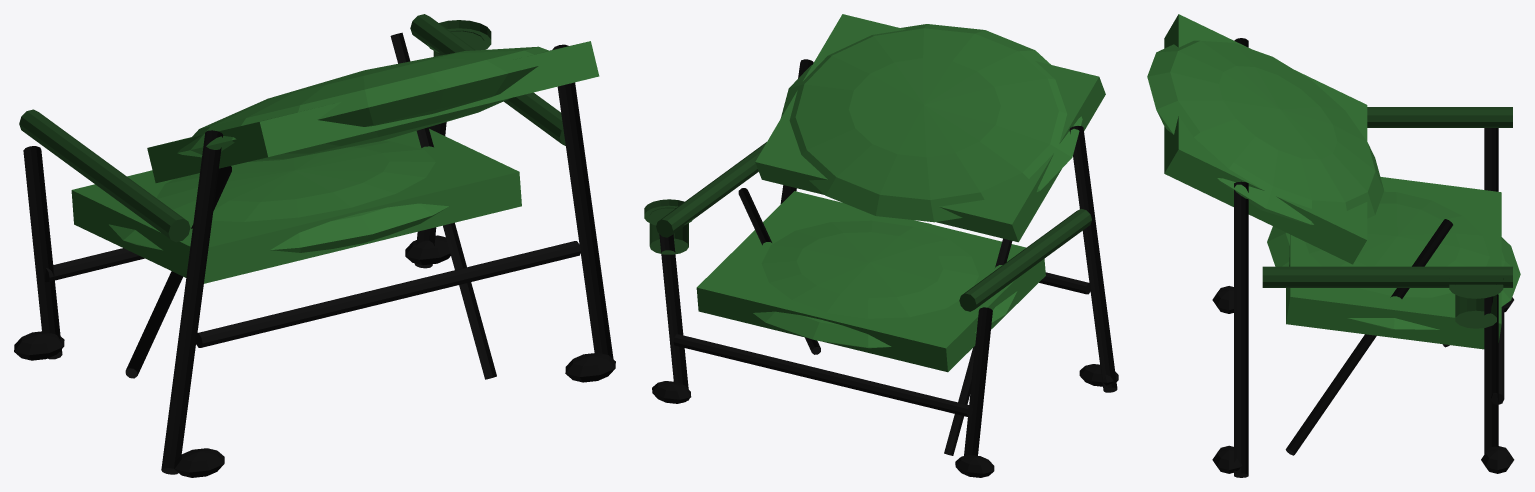
Rendered from comfy_camp_chair.obj.
3 views of the same model, side by side, from view 1: azimuth 30°, elevation 25°; view 2: azimuth 150°, elevation 25°; view 3: azimuth 270°, elevation 25° (orthographic). The views are drawn at different scales.
Parts seen in each view (by area): view 1: seat_center, padded_seat, rounded_back_cushion, back_center, rear_cross_bar, back_leg_-0.62, back_leg_0.62, arm_rest_-0.62, front_leg_-0.62, arm_rest_0.62, right_x_brace, left_x_brace (+6 smaller); view 2: rounded_back_cushion, padded_seat, seat_center, back_center, front_cross_bar, back_leg_-0.62, arm_rest_-0.62, arm_rest_0.62, front_leg_-0.62, front_leg_0.62, left_x_brace, right_x_brace (+6 smaller); view 3: rounded_back_cushion, seat_center, padded_seat, back_center, arm_rest_0.62, back_leg_0.62, arm_rest_-0.62, right_x_brace, front_leg_0.62, cup_holder_drop, front_leg_-0.62, cup_holder_ring (+4 smaller).
Part boxes in pixels (x1,y1,x2,y2): seat_center: [71, 128, 521, 283]; padded_seat: [109, 141, 449, 252]; rounded_back_cushion: [177, 46, 548, 161]; back_center: [147, 41, 599, 182]; rear_cross_bar: [196, 241, 580, 347]; back_leg_-0.62: [161, 130, 223, 474]; back_leg_0.62: [552, 44, 613, 358]; arm_rest_-0.62: [19, 109, 190, 242]; front_leg_-0.62: [23, 146, 62, 359]; arm_rest_0.62: [410, 14, 565, 145]; right_x_brace: [390, 32, 496, 379]; left_x_brace: [125, 166, 231, 378]; rounded_back_cushion: [780, 24, 1082, 222]; padded_seat: [753, 220, 1017, 348]; seat_center: [696, 191, 1045, 372]; back_center: [755, 14, 1105, 242]; front_cross_bar: [673, 334, 972, 416]; back_leg_-0.62: [1069, 126, 1117, 392]; arm_rest_-0.62: [959, 209, 1091, 311]; arm_rest_0.62: [656, 142, 766, 237]; front_leg_-0.62: [964, 307, 992, 455]; front_leg_0.62: [659, 234, 689, 400]; left_x_brace: [944, 238, 1012, 455]; right_x_brace: [738, 188, 820, 354]; rounded_back_cushion: [1147, 40, 1383, 224]; seat_center: [1286, 177, 1501, 349]; padded_seat: [1267, 191, 1520, 329]; back_center: [1164, 14, 1367, 264]; arm_rest_0.62: [1262, 266, 1512, 287]; back_leg_0.62: [1234, 181, 1248, 477]; arm_rest_-0.62: [1367, 107, 1512, 127]; right_x_brace: [1285, 219, 1452, 455]; front_leg_0.62: [1484, 294, 1498, 453]; cup_holder_drop: [1455, 284, 1496, 328]; front_leg_-0.62: [1484, 128, 1498, 191]; cup_holder_ring: [1449, 278, 1503, 298].
Bounding box in the file's own units: 1.47 × 1.19 × 1.22.
